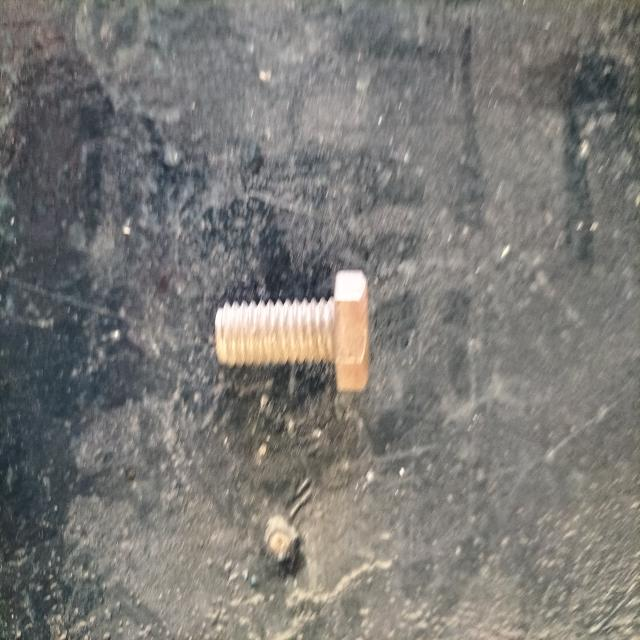bolt: (215, 270, 371, 390)
